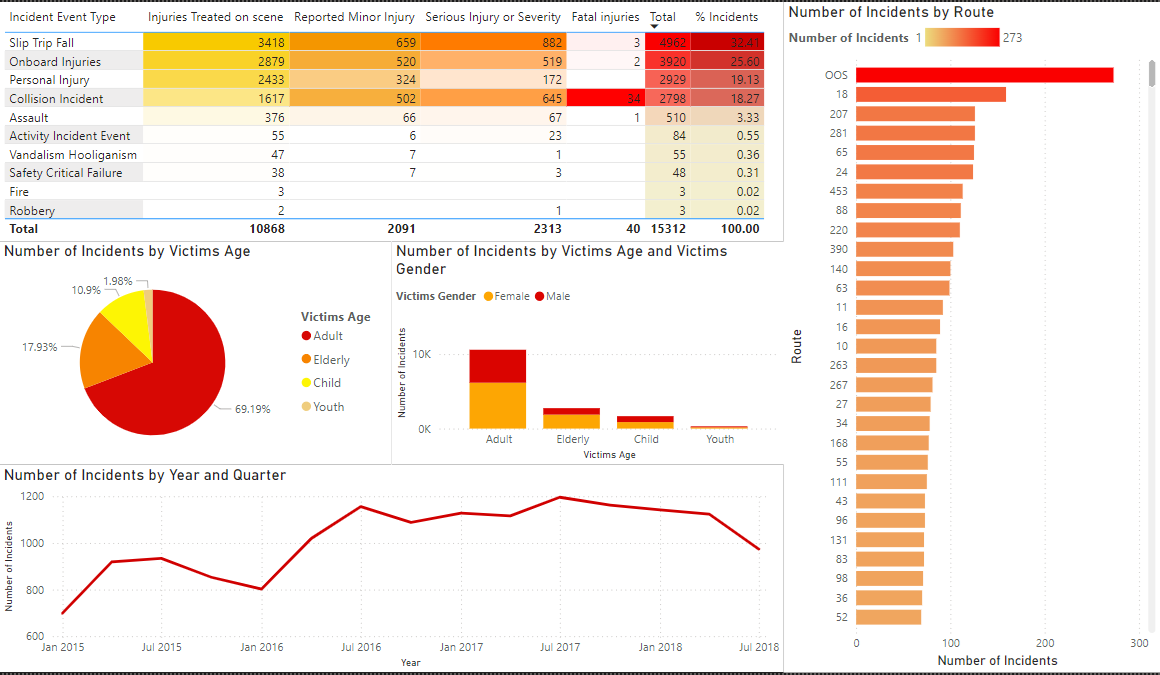

The dashboard page shown, as its layout file describes it:
{"tool":"powerbi","page":{"name":"Page 1","canvas":[1280,720],"ordinal":0},"visuals":[{"type":"tableEx","fields":{"Values":["Sheet1.Incident Event Type","Sheet1.Injuries Treated on scene","Sheet1.Reported Minor Injury","Sheet1.Serious Injury or Severity","Sheet1.Fatal injuries","Sheet1.Number of Incidents","Sheet1.% Incidents"]},"box":[0,0,842.9,257.1],"z":0},{"type":"pieChart","fields":{"Category":["Sheet1.Victims Age"],"Y":["Sheet1.Number of Incidents"]},"box":[0,257.1,421.4,240],"z":1000},{"type":"columnChart","fields":{"Category":["Sheet1.Victims Age"],"Y":["Sheet1.Number of Incidents"],"Series":["Sheet1.Victims Sex"]},"box":[421.4,257.1,421.4,240],"z":2000},{"type":"clusteredBarChart","fields":{"Y":["Sheet1.Number of Incidents"],"Category":["Sheet1.Route"]},"box":[842.9,0,404.3,720],"z":3000},{"type":"lineChart","fields":{"Y":["Sheet1.Number of Incidents"],"Category":["Sheet1.Date Of Incident.Variation.Date Hierarchy.Year","Sheet1.Date Of Incident.Variation.Date Hierarchy.Quarter"]},"box":[0,497.1,842.9,222.9],"z":4000}]}

Visuals, with their boxes on the page's 1280x720 design canvas (x1, y1, x2, y2). These are canvas units, not pixel positions in the 1160x675 screenshot, which may show the page scaled, cropped or inside an application window:
tableEx - Sheet1.Incident Event Type x Sheet1.Injuries Treated on scene: bbox(0, 0, 843, 257)
pieChart - Sheet1.Victims Age x Sheet1.Number of Incidents: bbox(0, 257, 421, 497)
columnChart - Sheet1.Victims Age x Sheet1.Number of Incidents: bbox(421, 257, 843, 497)
clusteredBarChart - Sheet1.Number of Incidents x Sheet1.Route: bbox(843, 0, 1247, 720)
lineChart - Sheet1.Number of Incidents x Sheet1.Date Of Incident.Variation.Date Hierarchy.Year: bbox(0, 497, 843, 720)
